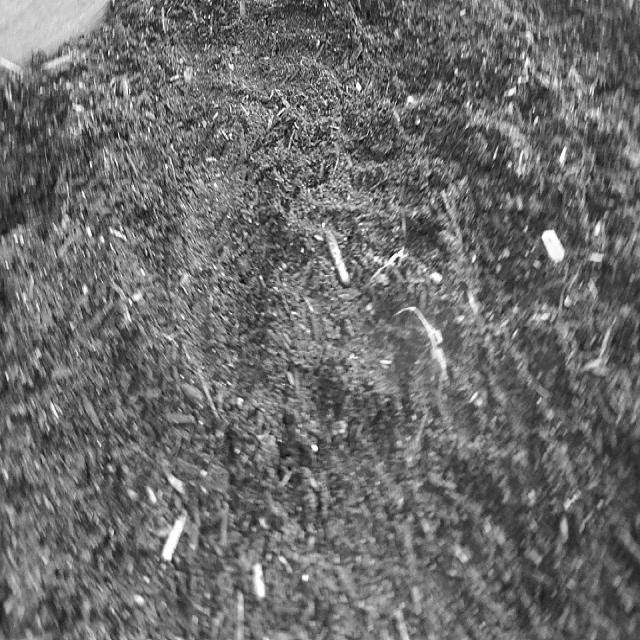Unhealthy: (394, 305, 449, 375)
